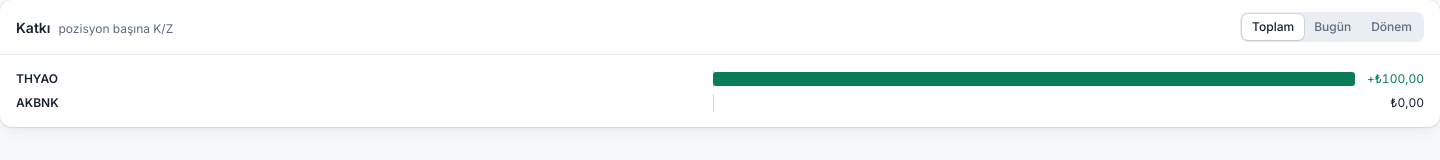
Scenario: ContributionCard › adds a row for the move of positions sold out, so today adds up to the summary day change
# A was sold out on the price date: its closed row has no day_change_reporting.
Click the radio button labelled "Bugün": click(1333, 27) [1304,14,1361,40]
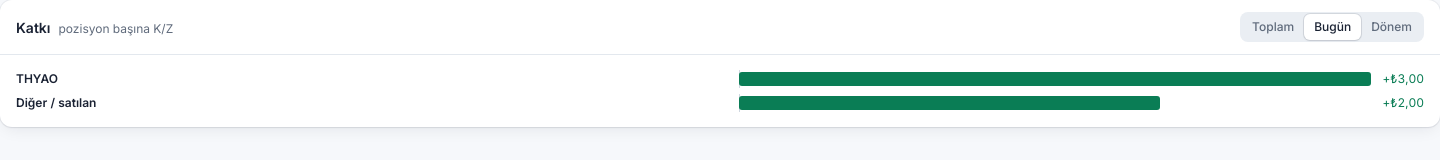
Expected: the links read "THYAO", in this order, [16,71,58,86]
